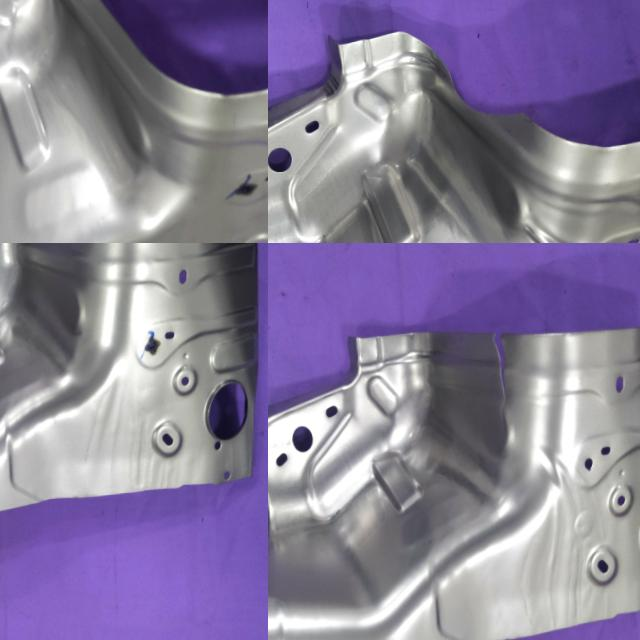Defect: (430, 55, 528, 135), (482, 321, 526, 426)
Healthy: (0, 243, 268, 538), (0, 0, 268, 243)
